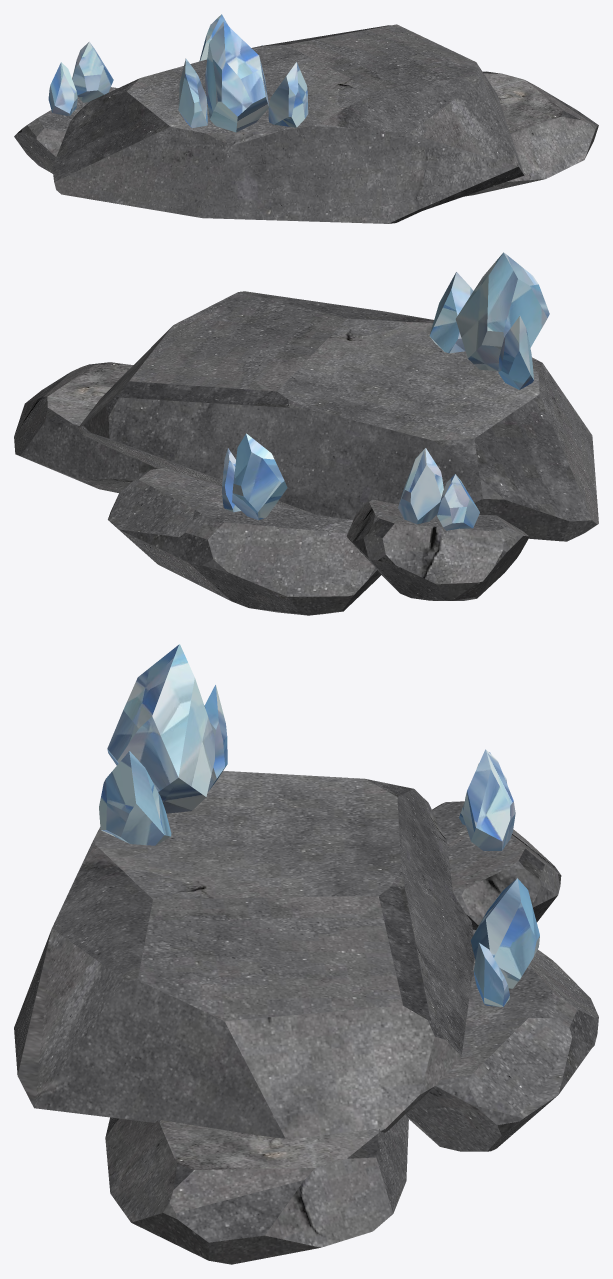
The model's file is FBX Plateforme.fbx.
3 renders of one model, top to bottom at view 1: azimuth 30°, elevation 25°; view 2: azimuth 150°, elevation 25°; view 3: azimuth 270°, elevation 25°, orthographic. The views are drawn at different scales.
Visible parts, largest first — view 1: Icosphere.015, Icosphere.009; view 2: Icosphere.015, Icosphere.009; view 3: Icosphere.015, Icosphere.009.
Boxes of the visible parts, bbox=[...] form: Icosphere.015: bbox=[14, 24, 598, 223]; Icosphere.009: bbox=[48, 14, 308, 132]; Icosphere.015: bbox=[14, 291, 598, 615]; Icosphere.009: bbox=[222, 252, 549, 530]; Icosphere.015: bbox=[14, 771, 598, 1264]; Icosphere.009: bbox=[99, 644, 539, 1006].
Size of the model in its own units: 351 by 157 by 229.
2 materials, 2 textured.
